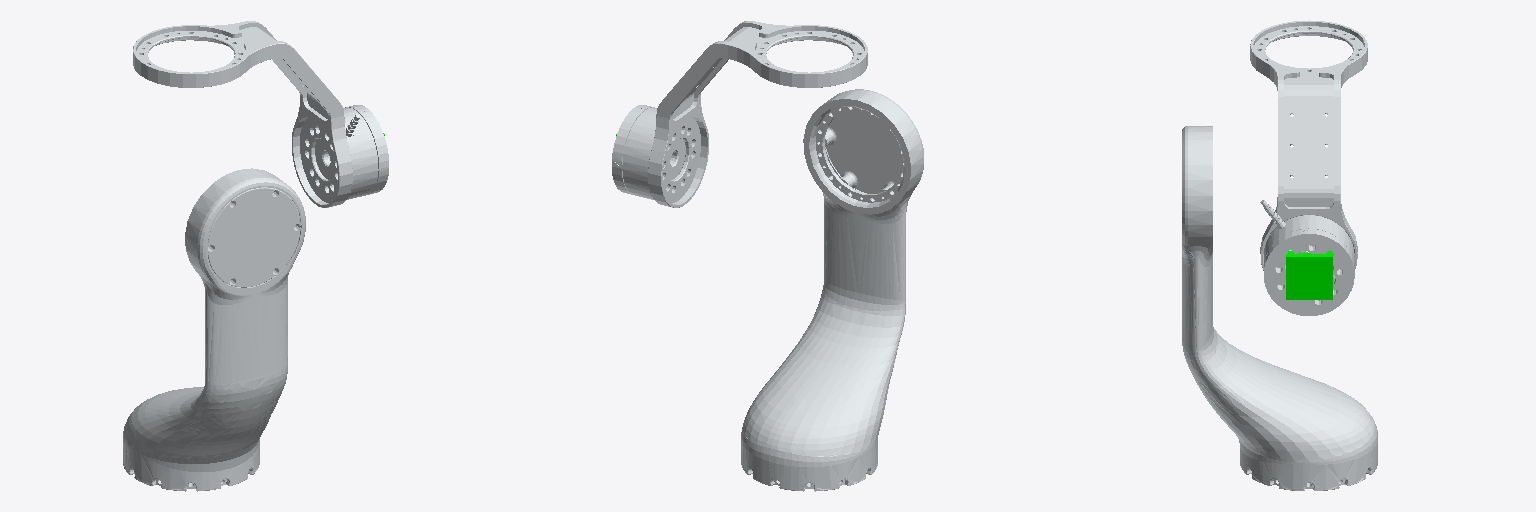
URDF robot description (armmodel):
<?xml version="1.0"?>
<!-- This URDF was automatically created by SolidWorks to URDF Exporter! Originally created by [author] ([email redacted]) 
     Commit Version: 1.6.0-1-g15f4949  Build Version: 1.6.7594.29634
     For more information, please see http://wiki.ros.org/sw_urdf_exporter -->
<robot
  name="armmodel">
  <link
    name="base_link">
    <inertial>
      <origin
        xyz="6.6181E-05 -0.00015161 -0.19249"
        rpy="0 0 0" />
      <mass
        value="1.2116" />
      <inertia
        ixx="0.0019567"
        ixy="3.2695E-06"
        ixz="-6.4571E-07"
        iyy="0.0019617"
        iyz="-1.5111E-06"
        izz="0.0030011" />
    </inertial>
    <visual>
      <origin
        xyz="0 0 0"
        rpy="0 0 0" />
      <geometry>
        <mesh
          filename="package://armmodel/meshes/base_link.dae" />
      </geometry>
      <material
        name="">
        <color
          rgba="0.89804 0.91765 0.92941 1" />
      </material>
    </visual>
    <collision>
      <origin
        xyz="0 0 0"
        rpy="0 0 0" />
      <geometry>
        <mesh
          filename="package://armmodel/meshes/base_link.dae" />
      </geometry>
    </collision>
  </link>
  <link
    name="link1">
    <inertial>
      <origin
        xyz="7.2718E-05 -0.029092 -0.030082"
        rpy="0 0 0" />
      <mass
        value="1.3993" />
      <inertia
        ixx="0.0039418"
        ixy="-1.3252E-07"
        ixz="1.2424E-06"
        iyy="0.0042042"
        iyz="0.0010239"
        izz="0.0027112" />
    </inertial>
    <visual>
      <origin
        xyz="0 0 0"
        rpy="0 0 0" />
      <geometry>
        <mesh
          filename="package://armmodel/meshes/link1.dae" />
      </geometry>
      <material
        name="">
        <color
          rgba="0.89804 0.91765 0.92941 1" />
      </material>
    </visual>
    <collision>
      <origin
        xyz="0 0 0"
        rpy="0 0 0" />
      <geometry>
        <mesh
          filename="package://armmodel/meshes/link1.dae" />
      </geometry>
    </collision>
  </link>
  <joint
    name="armjoint1"
    type="revolute">
    <origin
      xyz="0 0 0"
      rpy="0 0 0" />
    <parent
      link="base_link" />
    <child
      link="link1" />
    <axis
      xyz="0 0 1" />
    <limit
      lower="-2.967"
      upper="2.967"
      effort="0"
      velocity="0" />
  </joint>
  <link
    name="link2">
    <inertial>
      <origin
        xyz="3.216E-05 0.11921 -0.01045"
        rpy="0 0 0" />
      <mass
        value="1.4639" />
      <inertia
        ixx="0.0063672"
        ixy="-4.7491E-07"
        ixz="7.5063E-07"
        iyy="0.0026746"
        iyz="-0.00050689"
        izz="0.0069259" />
    </inertial>
    <visual>
      <origin
        xyz="0 0 0"
        rpy="0 0 0" />
      <geometry>
        <mesh
          filename="package://armmodel/meshes/link2.dae" />
      </geometry>
      <material
        name="">
        <color
          rgba="0.89804 0.91765 0.92941 1" />
      </material>
    </visual>
    <collision>
      <origin
        xyz="0 0 0"
        rpy="0 0 0" />
      <geometry>
        <mesh
          filename="package://armmodel/meshes/link2.dae" />
      </geometry>
    </collision>
  </link>
  <joint
    name="armjoint2"
    type="revolute">
    <origin
      xyz="0 0 0"
      rpy="1.5708 0 0" />
    <parent
      link="link1" />
    <child
      link="link2" />
    <axis
      xyz="0 0 1" />
    <limit
      lower="-2.094"
      upper="2.094"
      effort="0"
      velocity="0" />
  </joint>
  <link
    name="link3">
    <inertial>
      <origin
        xyz="0.019368 -0.020584 -0.051775"
        rpy="0 0 0" />
      <mass
        value="1.1787" />
      <inertia
        ixx="0.005941"
        ixy="7.5907E-05"
        ixz="-0.00070134"
        iyy="0.0064945"
        iyz="0.00076789"
        izz="0.0019242" />
    </inertial>
    <visual>
      <origin
        xyz="0 0 0"
        rpy="0 0 0" />
      <geometry>
        <mesh
          filename="package://armmodel/meshes/link3.dae" />
      </geometry>
      <material
        name="">
        <color
          rgba="0.89804 0.91765 0.92941 1" />
      </material>
    </visual>
    <collision>
      <origin
        xyz="0 0 0"
        rpy="0 0 0" />
      <geometry>
        <mesh
          filename="package://armmodel/meshes/link3.dae" />
      </geometry>
    </collision>
  </link>
  <joint
    name="armjoint3"
    type="revolute">
    <origin
      xyz="0 0.4495 0"
      rpy="-1.5708 0 0" />
    <parent
      link="link2" />
    <child
      link="link3" />
    <axis
      xyz="0 0 1" />
    <limit
      lower="-2.967"
      upper="2.967"
      effort="0"
      velocity="0" />
  </joint>
  <link
    name="link4">
    <inertial>
      <origin
        xyz="-0.023047 0.13103 -0.017911"
        rpy="0 0 0" />
      <mass
        value="0.94956" />
      <inertia
        ixx="0.0051402"
        ixy="0.00052455"
        ixz="9.256E-05"
        iyy="0.0014794"
        iyz="-0.00088944"
        izz="0.0053194" />
    </inertial>
    <visual>
      <origin
        xyz="0 0 0"
        rpy="0 0 0" />
      <geometry>
        <mesh
          filename="package://armmodel/meshes/link4.dae" />
      </geometry>
      <material
        name="">
        <color
          rgba="0.89804 0.91765 0.92941 1" />
      </material>
    </visual>
    <collision>
      <origin
        xyz="0 0 0"
        rpy="0 0 0" />
      <geometry>
        <mesh
          filename="package://armmodel/meshes/link4.dae" />
      </geometry>
    </collision>
  </link>
  <joint
    name="armjoint4"
    type="revolute">
    <origin
      xyz="0.03 0 0"
      rpy="1.5708 0 0" />
    <parent
      link="link3" />
    <child
      link="link4" />
    <axis
      xyz="0 0 1" />
    <limit
      lower="-2.792"
      upper="2.094"
      effort="0"
      velocity="0" />
  </joint>
  <link
    name="link5">
    <inertial>
      <origin
        xyz="1.8693E-05 -0.041402 -0.10398"
        rpy="0 0 0" />
      <mass
        value="0.3347" />
      <inertia
        ixx="0.0018739"
        ixy="-4.1119E-08"
        ixz="1.694E-07"
        iyy="0.0016304"
        iyz="0.00057017"
        izz="0.00062971" />
    </inertial>
    <visual>
      <origin
        xyz="0 0 0"
        rpy="0 0 0" />
      <geometry>
        <mesh
          filename="package://armmodel/meshes/link5.dae" />
      </geometry>
      <material
        name="">
        <color
          rgba="0.89804 0.91765 0.92941 1" />
      </material>
    </visual>
    <collision>
      <origin
        xyz="0 0 0"
        rpy="0 0 0" />
      <geometry>
        <mesh
          filename="package://armmodel/meshes/link5.dae" />
      </geometry>
    </collision>
  </link>
  <joint
    name="armjoint5"
    type="revolute">
    <origin
      xyz="-0.03 0.4495 0"
      rpy="-1.5708 0 0" />
    <parent
      link="link4" />
    <child
      link="link5" />
    <axis
      xyz="0 0 1" />
    <limit
      lower="-2.967"
      upper="2.967"
      effort="0"
      velocity="0" />
  </joint>
  <link
    name="link6">
    <inertial>
      <origin
        xyz="0.00031073 0.011805 -0.00086368"
        rpy="0 0 0" />
      <mass
        value="0.94596" />
      <inertia
        ixx="0.0010467"
        ixy="4.7917E-06"
        ixz="-8.4956E-06"
        iyy="0.00080867"
        iyz="5.2641E-05"
        izz="0.0008319" />
    </inertial>
    <visual>
      <origin
        xyz="0 0 0"
        rpy="0 0 0" />
      <geometry>
        <mesh
          filename="package://armmodel/meshes/link6.dae" />
      </geometry>
      <material
        name="">
        <color
          rgba="1 1 1 1" />
      </material>
    </visual>
    <collision>
      <origin
        xyz="0 0 0"
        rpy="0 0 0" />
      <geometry>
        <mesh
          filename="package://armmodel/meshes/link6.dae" />
      </geometry>
    </collision>
  </link>
  <joint
    name="armjoint6"
    type="revolute">
    <origin
      xyz="0 0 0"
      rpy="1.5708 0 0" />
    <parent
      link="link5" />
    <child
      link="link6" />
    <axis
      xyz="0 0 1" />
    <limit
      lower="-2.181"
      upper="2.181"
      effort="0"
      velocity="0" />
  </joint>
  <link
    name="link7">
    <inertial>
      <origin
        xyz="-0.083613 3.7165E-05 0.03637"
        rpy="0 0 0" />
      <mass
        value="0.18598" />
      <inertia
        ixx="0.00023579"
        ixy="-4.8742E-08"
        ixz="-0.00012561"
        iyy="0.00035441"
        iyz="-2.3106E-07"
        izz="0.00021991" />
    </inertial>
    <visual>
      <origin
        xyz="0 0 0"
        rpy="3.1416 0 0" />
      <geometry>
        <mesh
          filename="package://armmodel/meshes/link7.dae" />
      </geometry>
      <material
        name="">
        <color
          rgba="0.89804 0.91765 0.92941 1" />
      </material>
    </visual>
    <collision>
      <origin
        xyz="0 0 0"
        rpy="0 0 0" />
      <geometry>
        <mesh
          filename="package://armmodel/meshes/link7.dae" />
      </geometry>
    </collision>
  </link>
  <joint
    name="armjoint7"
    type="revolute">
    <origin
      xyz="0 0 0"
      rpy="-1.5708 0 3.1416" />
    <parent
      link="link6" />
    <child
      link="link7" />
    <axis
      xyz="0 0 -1" />
    <limit
      lower="-2.967"
      upper="2.967"
      effort="0"
      velocity="0" />
  </joint>





  <link name="link8">
    <inertial>
      <origin
        xyz="-0.083613 3.7165E-05 0.03637"
        rpy="0 0 0" />
      <mass
        value="0.18598" />
      <inertia
        ixx="0.00023579"
        ixy="-4.8742E-08"
        ixz="-0.00012561"
        iyy="0.00035441"
        iyz="-2.3106E-07"
        izz="0.00021991" />
    </inertial>
    <visual>
      <origin
        xyz="0 0 0"
        rpy="0 0 0" />
      <geometry>
        <box size="0.01 0.03 0.03"/>
      </geometry>
      <material
        name="">
        <color
          rgba="0 1 0 1" />
      </material>
    </visual>
    <collision>
      <origin
        xyz="0 0 0"
        rpy="0 0 0" />
      <geometry>
        <box size="0.01 0.03 0.03"/>
      </geometry>
    </collision>
  </link>

  <joint
    name="armjoint8"
    type="revolute">
    <origin
      xyz="-0.13 0 0"
      rpy="0 3.1416 0" />
    <parent
      link="link7" />
    <child
      link="link8" />
    <axis
      xyz="1 0 0" />
    <limit
      lower="-2.967"
      upper="2.967"
      effort="0"
      velocity="0" />
  </joint>

  <link name="link9">
    <inertial>
      <origin
        xyz="-0.083613 3.7165E-05 0.03637"
        rpy="0 0 0" />
      <mass
        value="0.18598" />
      <inertia
        ixx="0.00023579"
        ixy="-4.8742E-08"
        ixz="-0.00012561"
        iyy="0.00035441"
        iyz="-2.3106E-07"
        izz="0.00021991" />
    </inertial>
    <visual>
      <origin
        xyz="0 0 0"
        rpy="0 0 0" />
      <geometry>
        <box size="0.01 0.03 0.03"/>
      </geometry>
      <material
        name="">
        <color
          rgba="0 1 0 1" />
      </material>
    </visual>
    <collision>
      <origin
        xyz="0 0 0"
        rpy="0 0 0" />
      <geometry>
        <box size="0.01 0.03 0.03"/>
      </geometry>
    </collision>
  </link>

  <joint
    name="armjoint9"
    type="fixed">
    <origin
      xyz="0 0 0"
      rpy="0 0 0" />
    <parent
      link="link8" />
    <child
      link="link9" />
    <axis
      xyz="1 0 0" />
    <limit
      lower="-2.967"
      upper="2.967"
      effort="0"
      velocity="0" />
  </joint>


</robot>

--- What the picture shows (computed from the rendered views, not written in the file) ---
Views: 3 orthographic renders of the robot side by side, from view 1: azimuth 30°, elevation 25°; view 2: azimuth 150°, elevation 25°; view 3: azimuth 270°, elevation 25°.
Model armmodel with 10 links and 9 joints (8 revolute, 1 fixed), rooted at base_link, posed every joint at zero.
Visible links, largest first — view 1: link5, link7; view 2: link5, link7; view 3: link5, link7, link8.
Boxes of the visible links, x1,y1,x2,y2 form: link5: [123, 168, 305, 491]; link7: [133, 21, 388, 207]; link5: [741, 89, 923, 491]; link7: [612, 21, 867, 207]; link5: [1182, 126, 1377, 490]; link7: [1250, 20, 1367, 315]; link8: [1286, 251, 1332, 299].
Bounding box of the posed robot: 0.179 × 0.125 × 0.2925 m (x, y, z).
2 mesh visuals loaded from 8 distinct referenced files (2 Collada DAE); not drawn: 6 (reference not matched to a file when rendering).